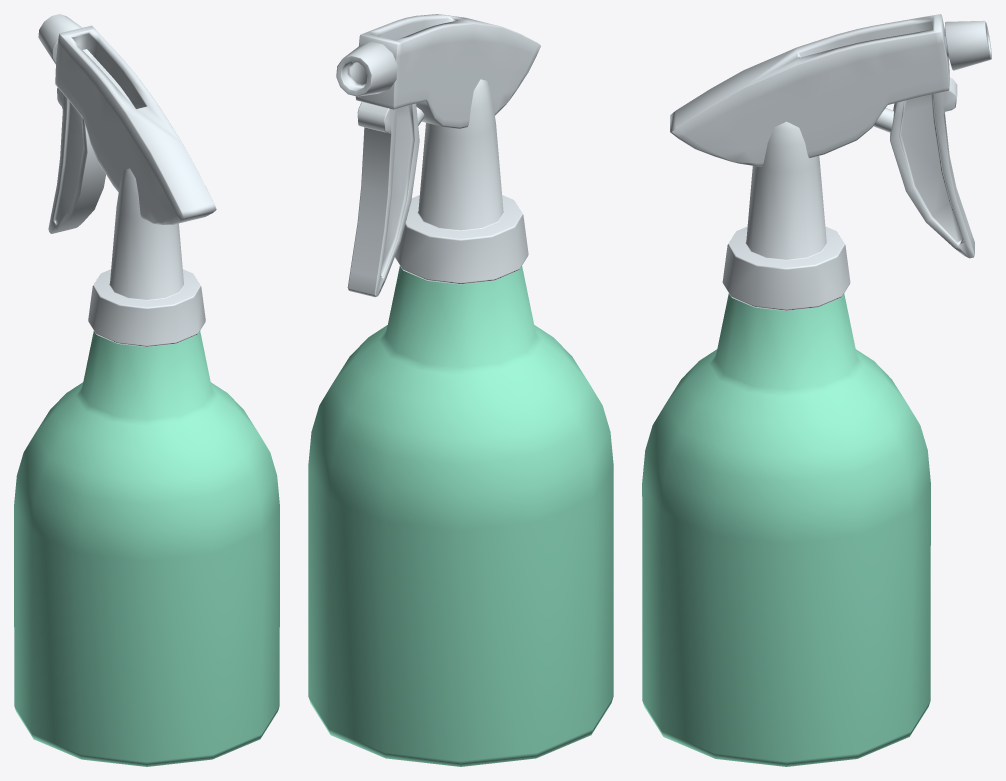
The model's file is puleverizator.fbx.
3 views of the same model, side by side, from view 1: azimuth 30°, elevation 25°; view 2: azimuth 150°, elevation 25°; view 3: azimuth 270°, elevation 25° (orthographic). The views are drawn at different scales.
Visible parts, largest first — view 1: puleverizator; view 2: puleverizator; view 3: puleverizator.
Part boxes in pixels (x1,y1,x2,y2): puleverizator: (14, 14, 279, 766); puleverizator: (308, 14, 613, 766); puleverizator: (642, 14, 991, 766).
Size of the model in its own units: 22.01 by 57.66 by 26.66.
